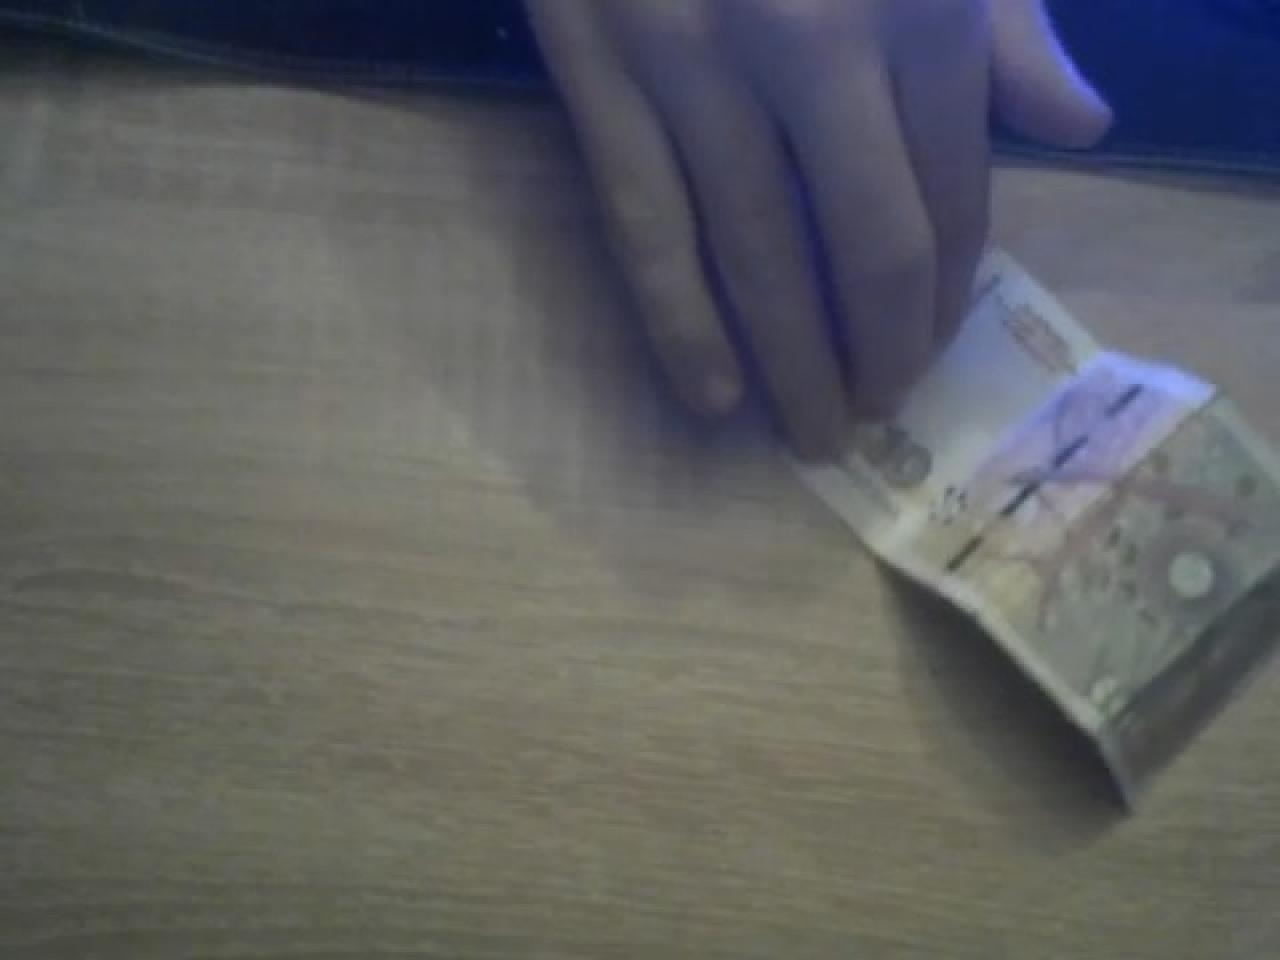10leva: (800, 251, 1280, 814)
